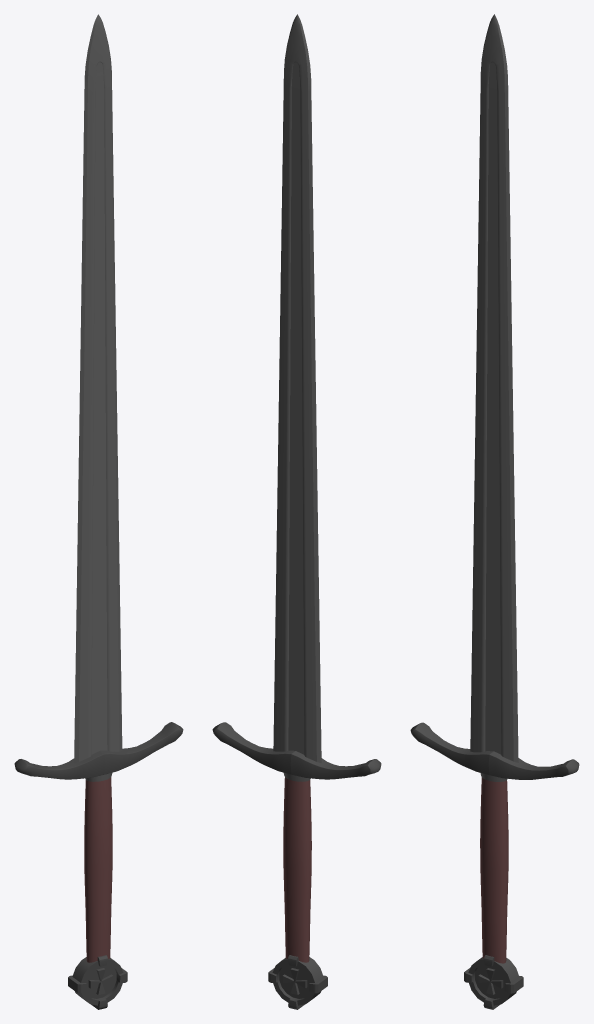
File: Sword.fbx
The picture shows the model from 3 angles, left to right: view 1: azimuth 30°, elevation 25°; view 2: azimuth 150°, elevation 25°; view 3: azimuth 330°, elevation 25°; orthographic projection.
Visible parts, largest first — view 1: Sword; view 2: Sword; view 3: Sword.
Part boxes in pixels (x1,y1,x2,y2): Sword: [14, 14, 183, 1009]; Sword: [212, 14, 381, 1009]; Sword: [410, 14, 579, 1009].
Size of the model in its own units: 1.88 by 10.86 by 0.2512.
